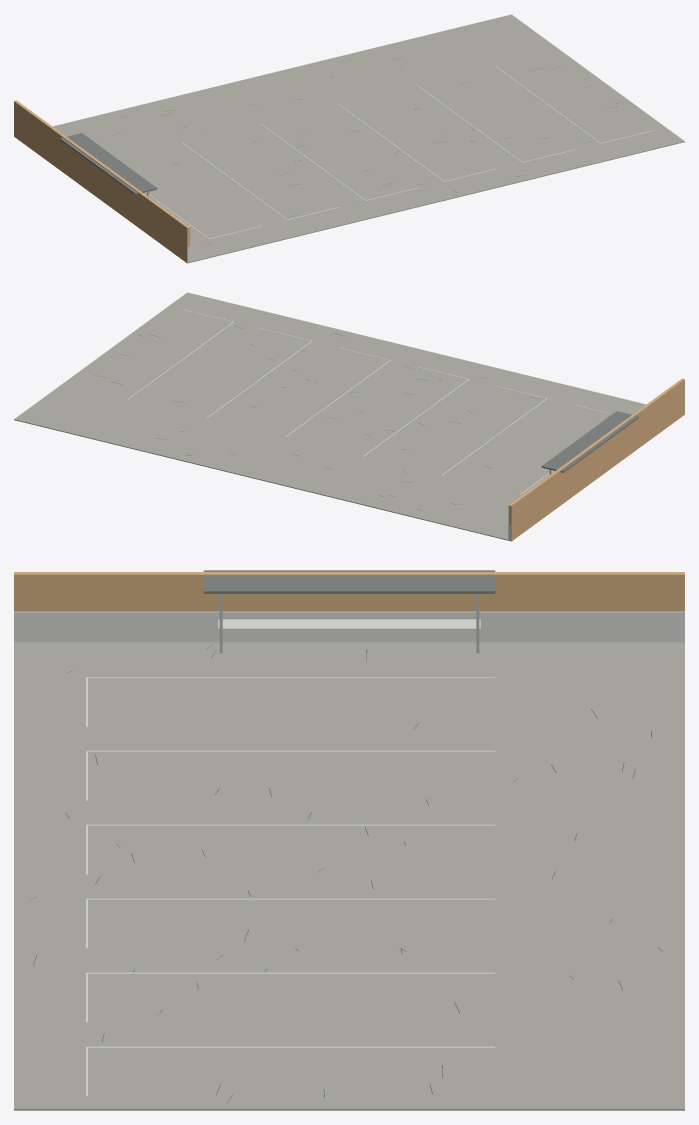
File: dining-court.glb
The picture shows the model from 3 angles, top to bottom: view 1: azimuth 30°, elevation 25°; view 2: azimuth 150°, elevation 25°; view 3: azimuth 270°, elevation 25°; orthographic projection. The views are drawn at different scales.
Parts seen in each view (by area): view 1: dining-court; view 2: dining-court; view 3: dining-court.
Boxes of the visible parts, x1,y1,x2,y2 form: dining-court: [14, 14, 684, 263]; dining-court: [14, 292, 684, 541]; dining-court: [14, 570, 684, 1110].
Bounding box in the file's own units: 38.35 × 2.6 × 23.
